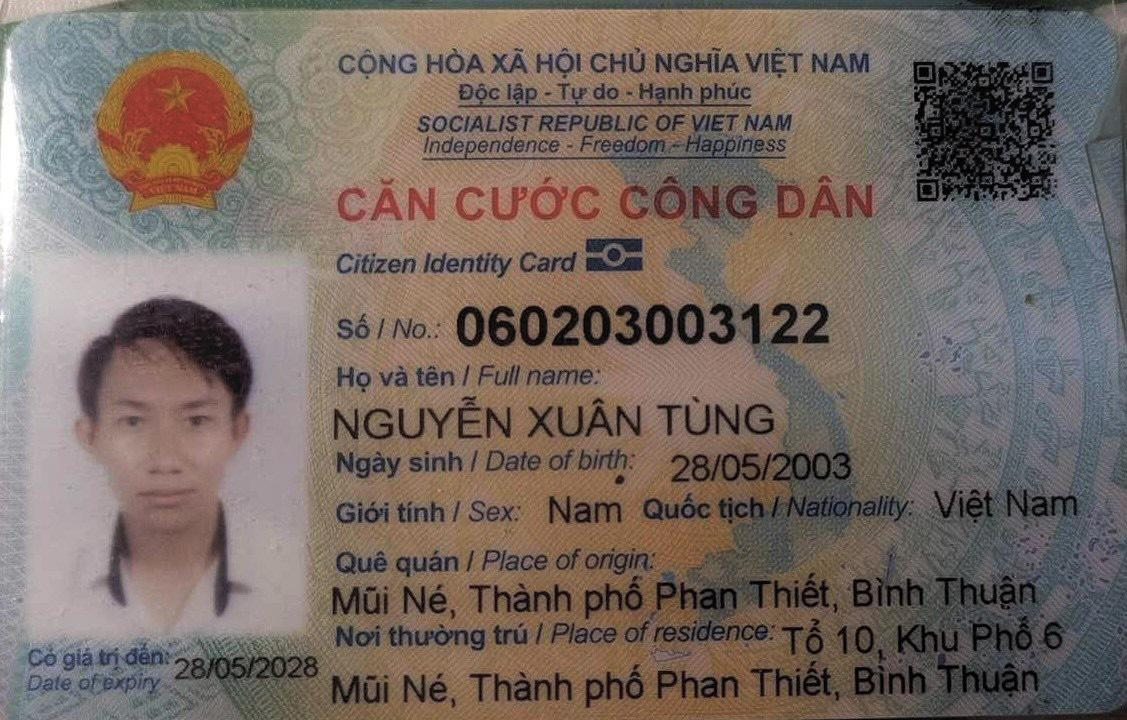ID: (451, 295, 841, 355)
birth: (660, 439, 865, 487)
name: (321, 390, 788, 445)
place: (320, 569, 1052, 621)
residence: (326, 657, 1050, 713), (774, 612, 1081, 660)
